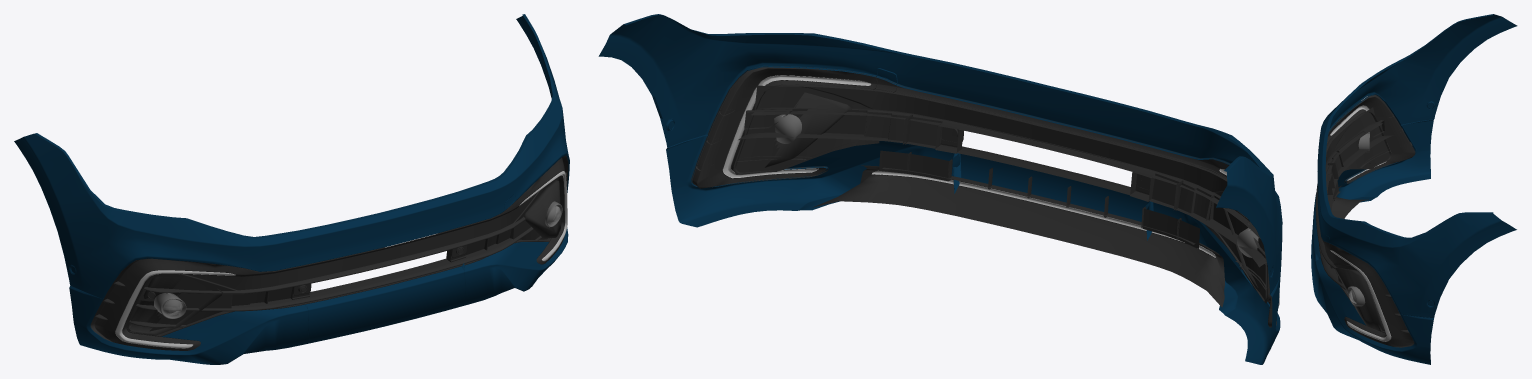
The picture shows the model from 3 angles, left to right: view 1: azimuth 30°, elevation 25°; view 2: azimuth 150°, elevation 25°; view 3: azimuth 270°, elevation 25°; orthographic projection. The views are drawn at different scales.
Visible parts, largest first — view 1: front bumper 2; view 2: front bumper 2; view 3: front bumper 2.
Boxes of the visible parts, x1,y1,x2,y2 form: front bumper 2: (14,14,569,364); front bumper 2: (598,14,1282,364); front bumper 2: (1311,14,1517,364).
Bounding box in the file's own units: 1.89 × 0.6723 × 0.8099.
Materials: 5 (1 with a texture image).
